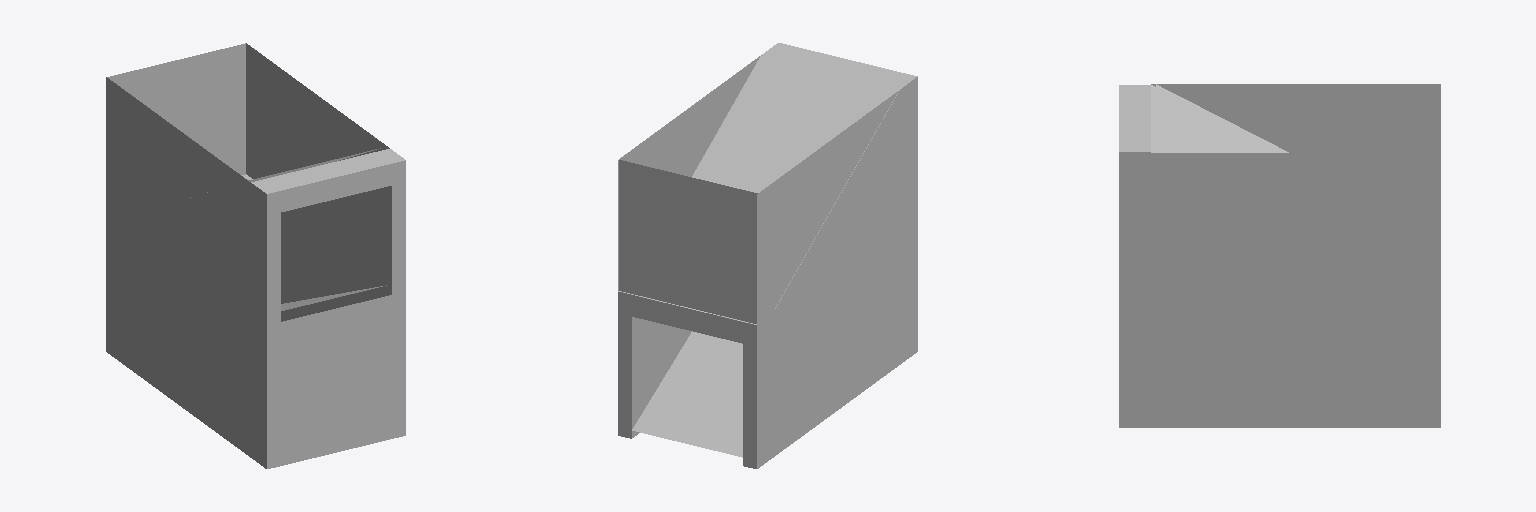
The picture shows the model from 3 angles: view 1: azimuth 30°, elevation 25°; view 2: azimuth 150°, elevation 25°; view 3: azimuth 270°, elevation 25°; orthographic projection.
Visible parts, largest first — view 1: objobjRegroup03; view 2: objobjRegroup03; view 3: objobjRegroup03.
Part boxes in pixels (x1,y1,x2,y2): objobjRegroup03: (106,43,405,468); objobjRegroup03: (618,43,917,468); objobjRegroup03: (1119,84,1440,427).
Bounding box in the file's own units: 10.05 × 18.91 × 20.